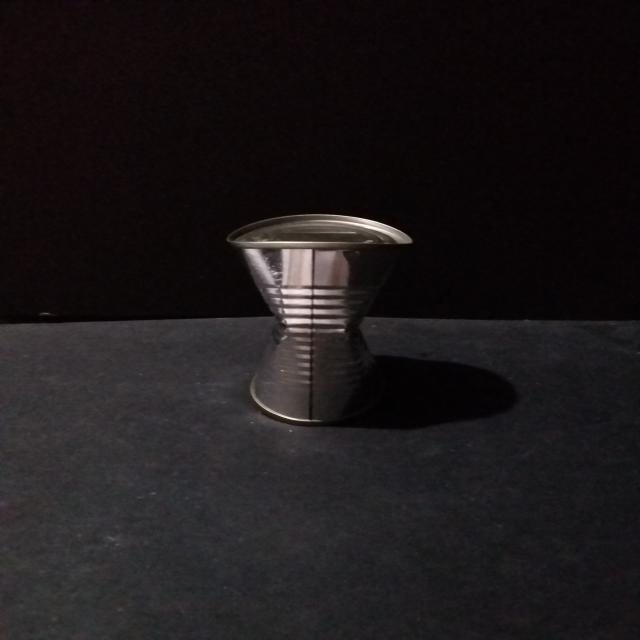metal: (223, 206, 422, 428)
